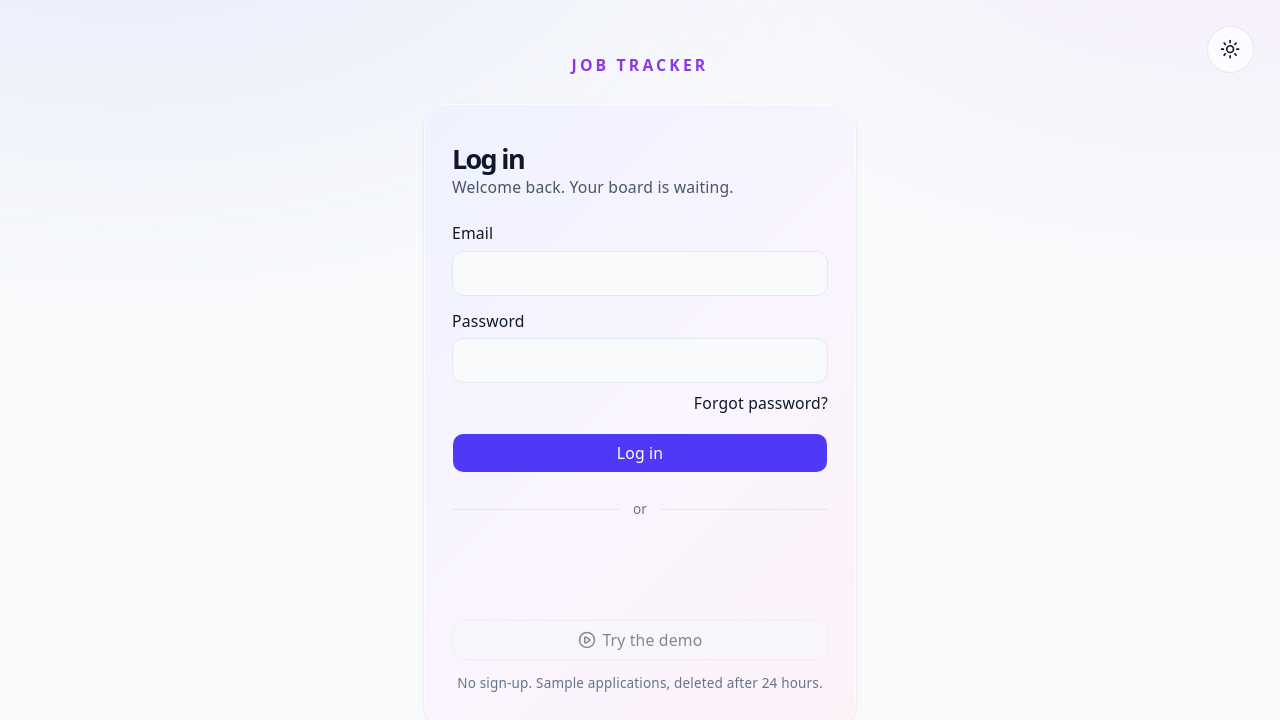
Test case: authentication › logging in › sends visitors to the login page and back to where they were going
Check: the heading "Log in" is shown, box [452, 140, 524, 176]
Type "kamil@example.com" into the field labelled "Email" at (640, 273), box [452, 251, 828, 296]
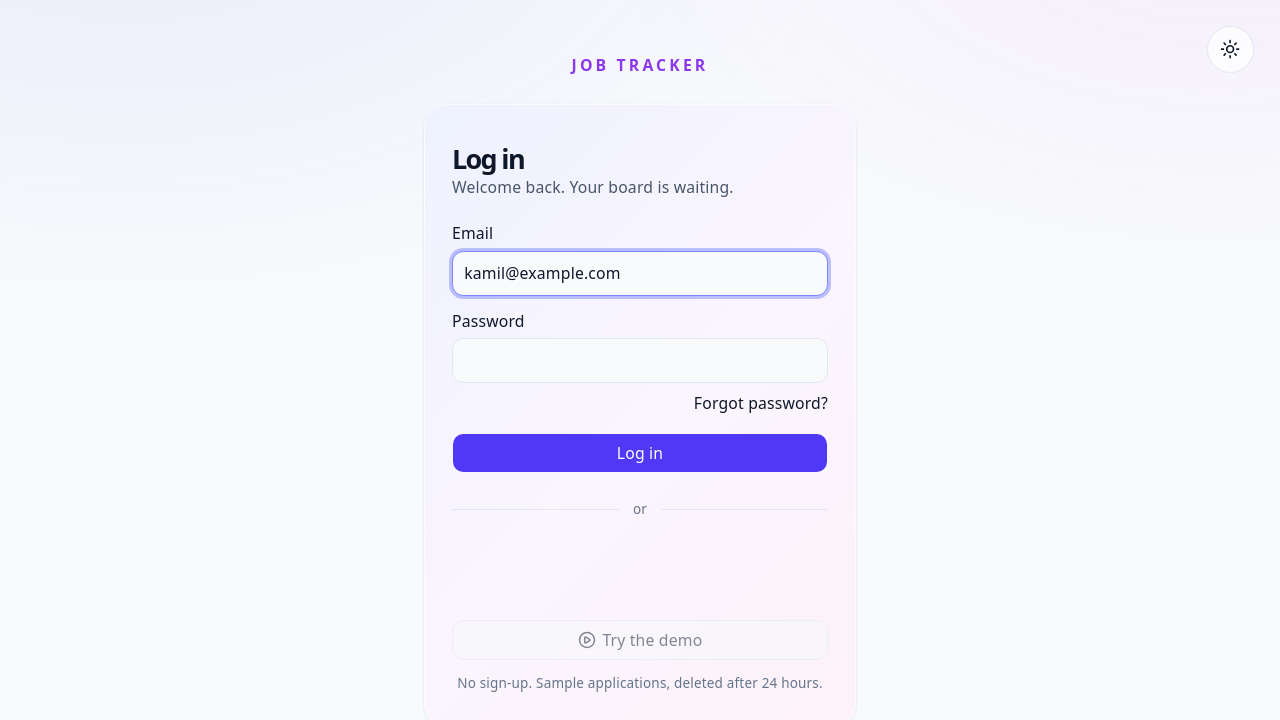
Type "correct horse battery" into the password field labelled "Password" at (640, 361), box [452, 338, 828, 384]
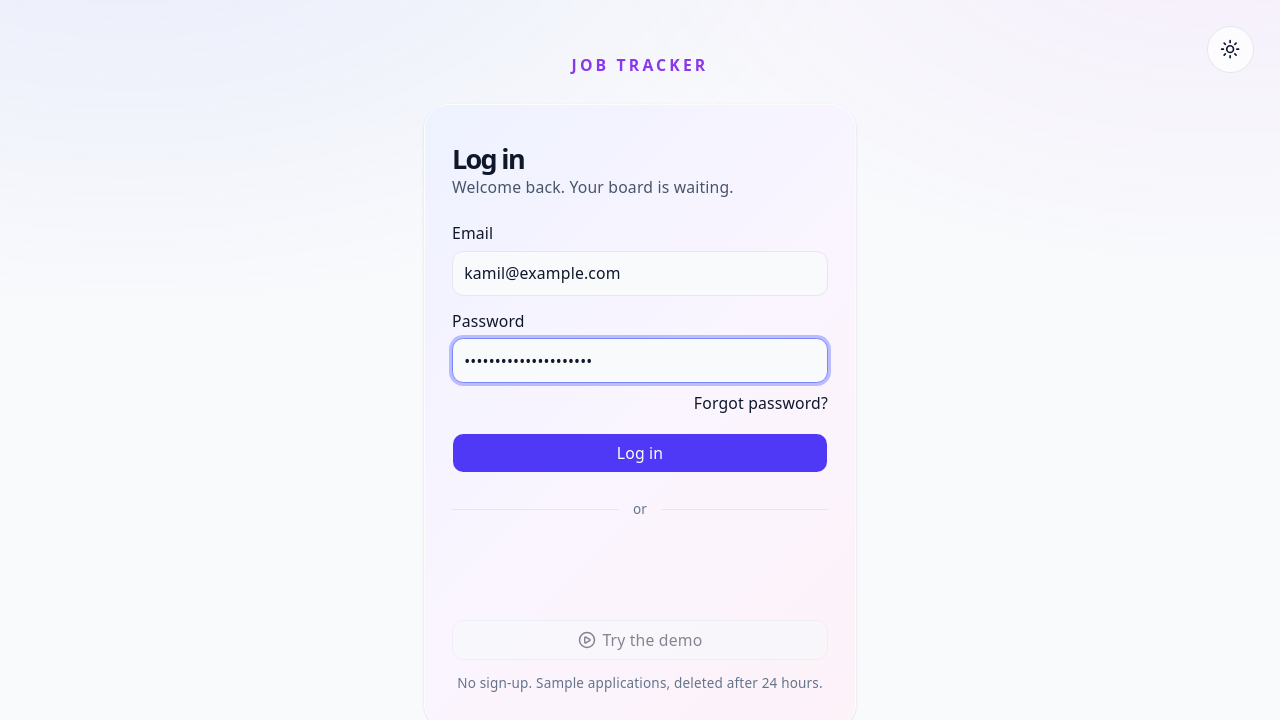
Click the button "Log in" at (640, 453), box [452, 433, 828, 474]
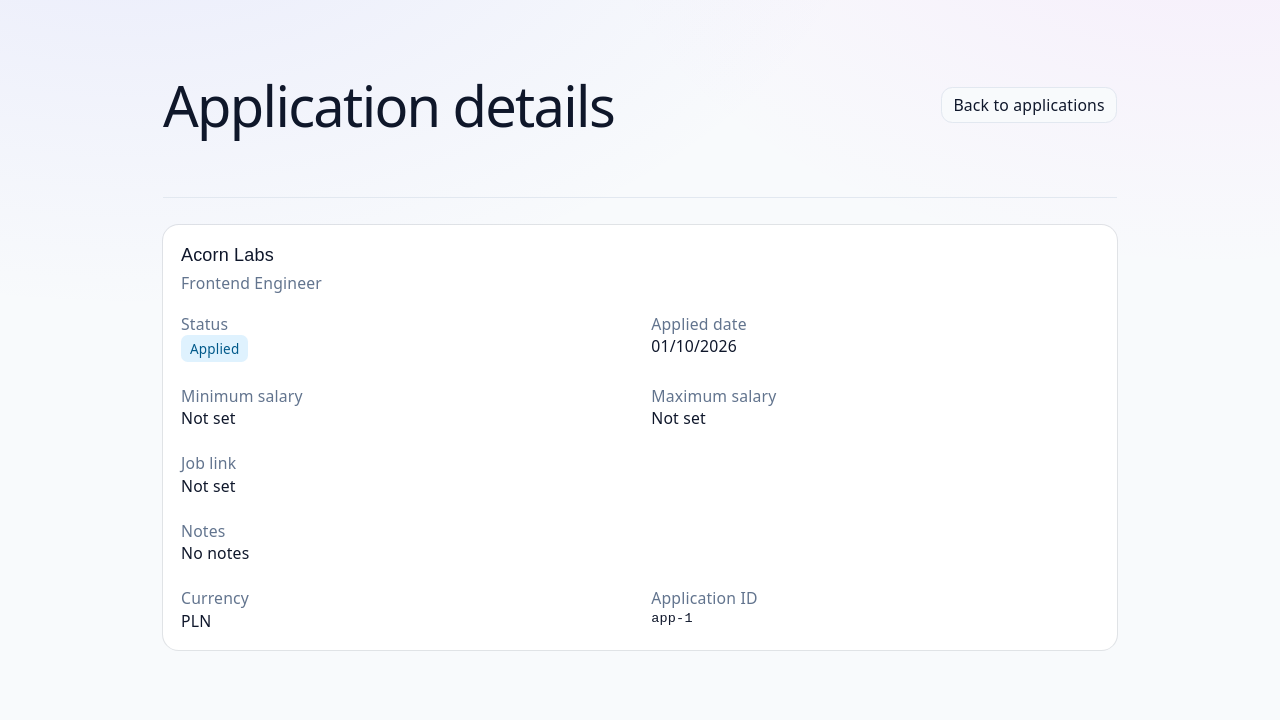
Check: the heading "Application details" is shown, box [163, 68, 614, 143]
